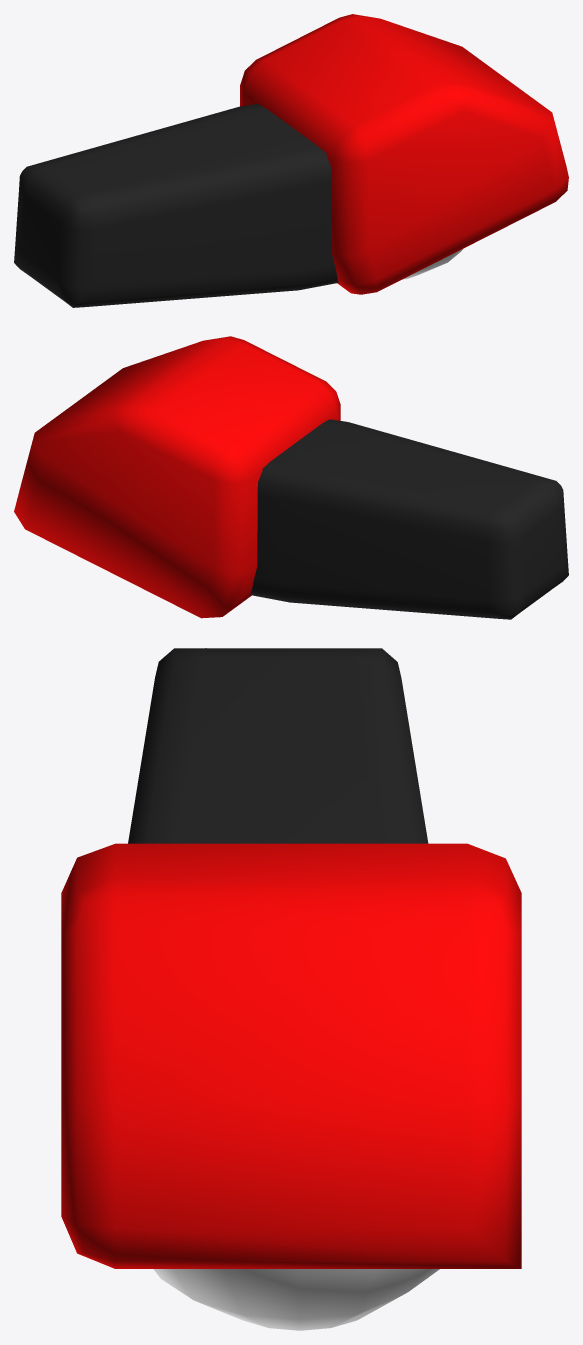
File: Drill_UpperArm.fbx
The picture shows the model from 3 angles, top to bottom: view 1: azimuth 30°, elevation 25°; view 2: azimuth 150°, elevation 25°; view 3: azimuth 270°, elevation 25°; orthographic projection. The views are drawn at different scales.
Parts seen in each view (by area): view 1: Drill_UpperArm; view 2: Drill_UpperArm; view 3: Drill_UpperArm.
Part boxes in pixels (<box>): Drill_UpperArm: <box>14,14,568,307</box>; Drill_UpperArm: <box>14,336,568,619</box>; Drill_UpperArm: <box>61,648,521,1330</box>.
Bounding box in the file's own units: 35.61 × 15.34 × 14.9.
